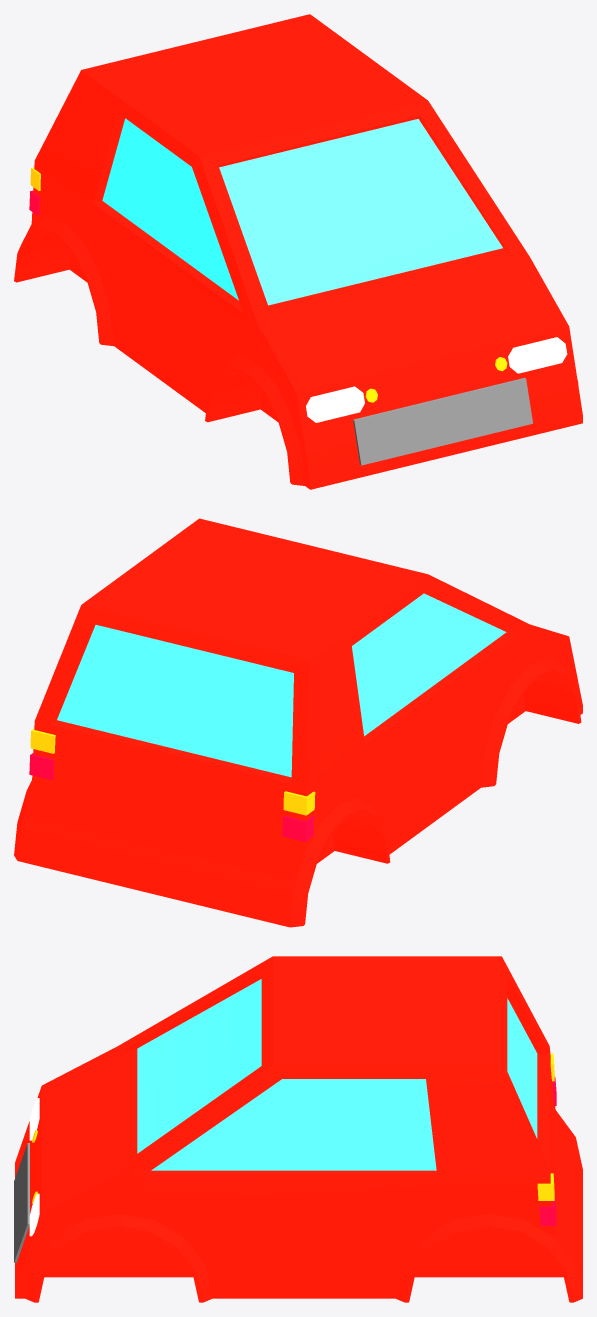
File: body.gltf
The picture shows the model from 3 angles, top to bottom: view 1: azimuth 30°, elevation 25°; view 2: azimuth 150°, elevation 25°; view 3: azimuth 270°, elevation 25°; orthographic projection. The views are drawn at different scales.
Visible parts, largest first — view 1: body; view 2: body; view 3: body.
Part boxes in pixels (x1=…): body: x1=14, y1=14, x2=582, y2=489; body: x1=14, y1=518, x2=582, y2=927; body: x1=14, y1=956, x2=582, y2=1302.
Bounding box in the file's own units: 1.8 × 1.37 × 3.16.
